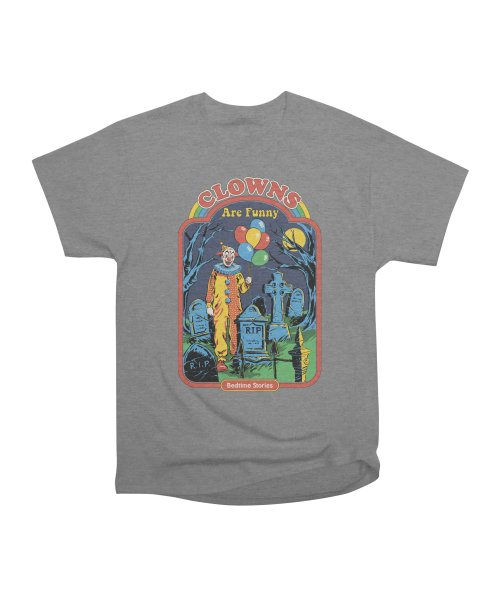design: (173, 172, 325, 395)
